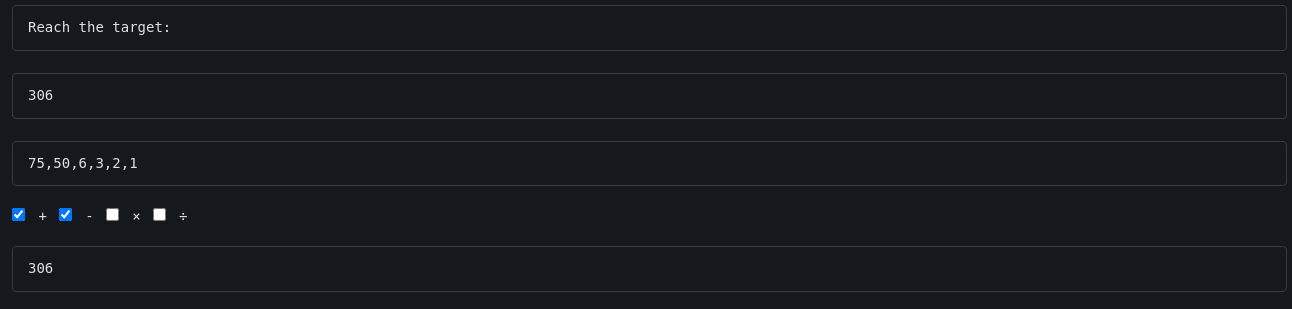
it: CountdownBuilder › updates the accepted answer when the target changes
Replace the text in the field with test id "countdown-target" with "100.0" at (650, 96), box [12, 73, 1287, 119]
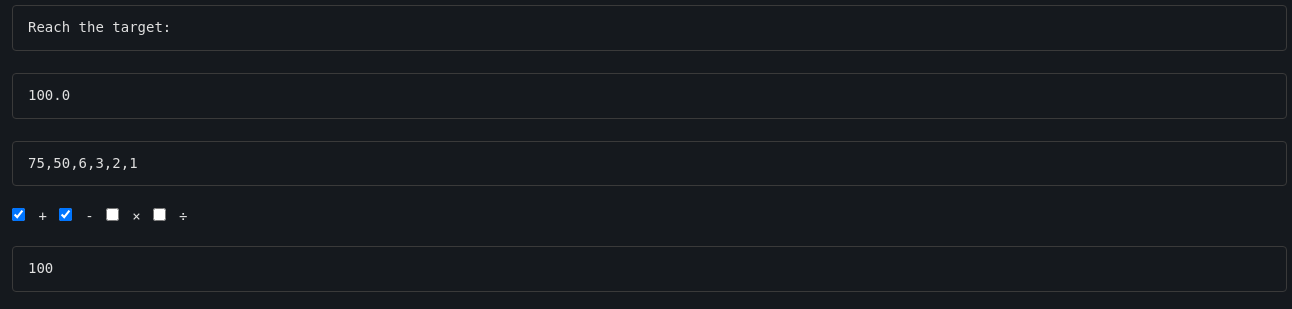
Expected: the field with test id "countdown-answer" holds "100", [12, 246, 1287, 292]
